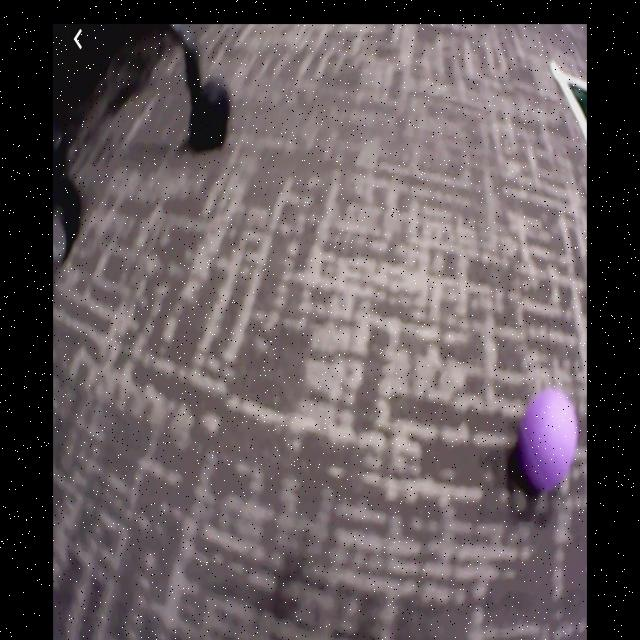ball: (518, 386, 581, 494)
